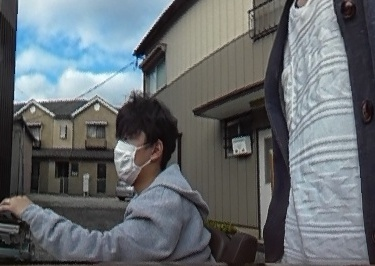person: (81, 95, 210, 266)
